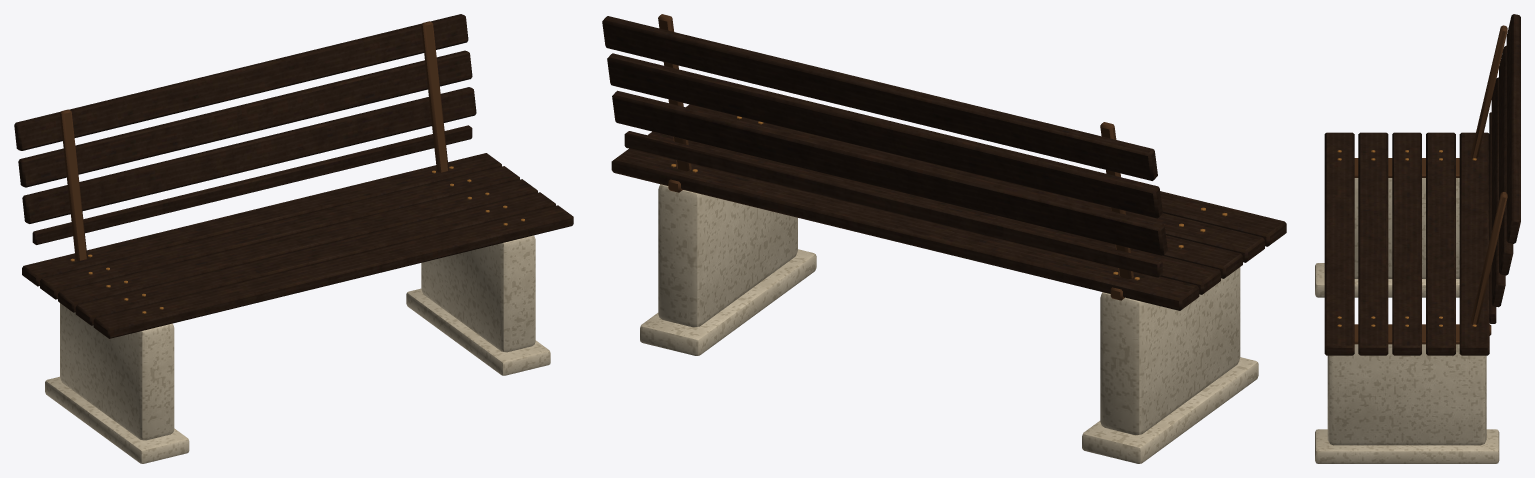
The model's file is bench-short.lod0.glb.
3 views of the same model, side by side, from view 1: azimuth 30°, elevation 25°; view 2: azimuth 150°, elevation 25°; view 3: azimuth 270°, elevation 25° (orthographic). The views are drawn at different scales.
Parts seen in each view (by area): view 1: bench_short_Timber • oiled walnut, bench_short_Stone • warm limestone, bench_short_Trim • places palette; view 2: bench_short_Timber • oiled walnut, bench_short_Stone • warm limestone, bench_short_Trim • places palette; view 3: bench_short_Timber • oiled walnut, bench_short_Stone • warm limestone, bench_short_Trim • places palette.
Boxes of the visible parts, x1,y1,x2,y2 form: bench_short_Timber • oiled walnut: (14, 14, 573, 338); bench_short_Stone • warm limestone: (45, 235, 550, 463); bench_short_Trim • places palette: (60, 21, 524, 313); bench_short_Timber • oiled walnut: (602, 16, 1286, 310); bench_short_Stone • warm limestone: (640, 184, 1258, 463); bench_short_Trim • places palette: (658, 14, 1227, 300); bench_short_Timber • oiled walnut: (1324, 14, 1520, 355); bench_short_Stone • warm limestone: (1315, 178, 1499, 463); bench_short_Trim • places palette: (1337, 25, 1507, 344).
Size of the model in its own units: 1.6 by 0.9056 by 0.6483.
Materials: 3 (3 with a texture image).
